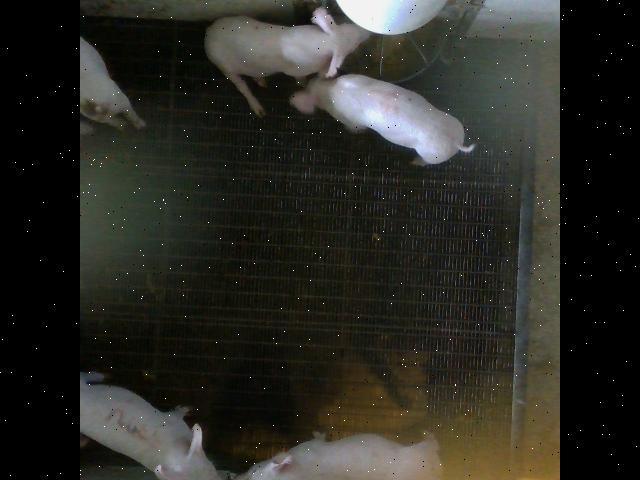pig-3: (80, 372, 228, 480)
pig-4: (290, 74, 474, 164)
